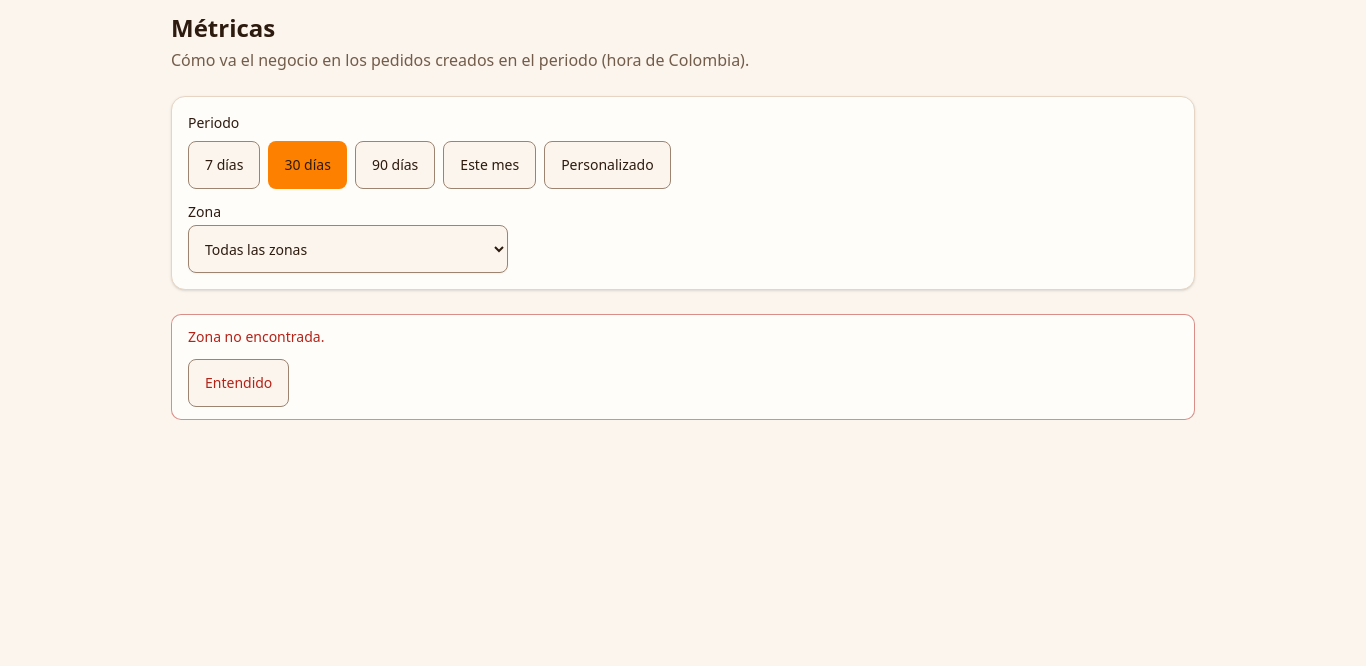
Test: MetricsView › zona que ya no existe (404): se explica y «Entendido» quita el filtro
Check: the message shows "Zona no encontrada.", box [188, 327, 324, 346]
Click the button "Entendido" at (239, 383), box [188, 359, 289, 407]
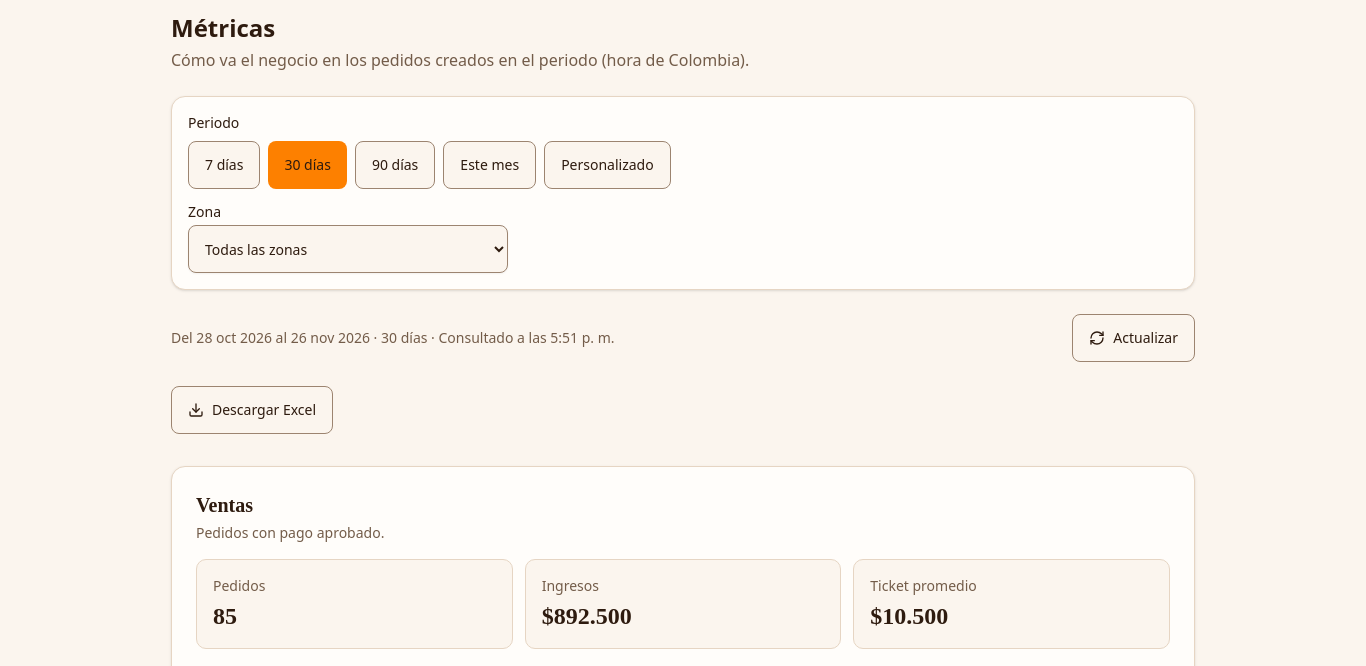
Check: the heading "Ventas" is shown, box [196, 494, 253, 516]
